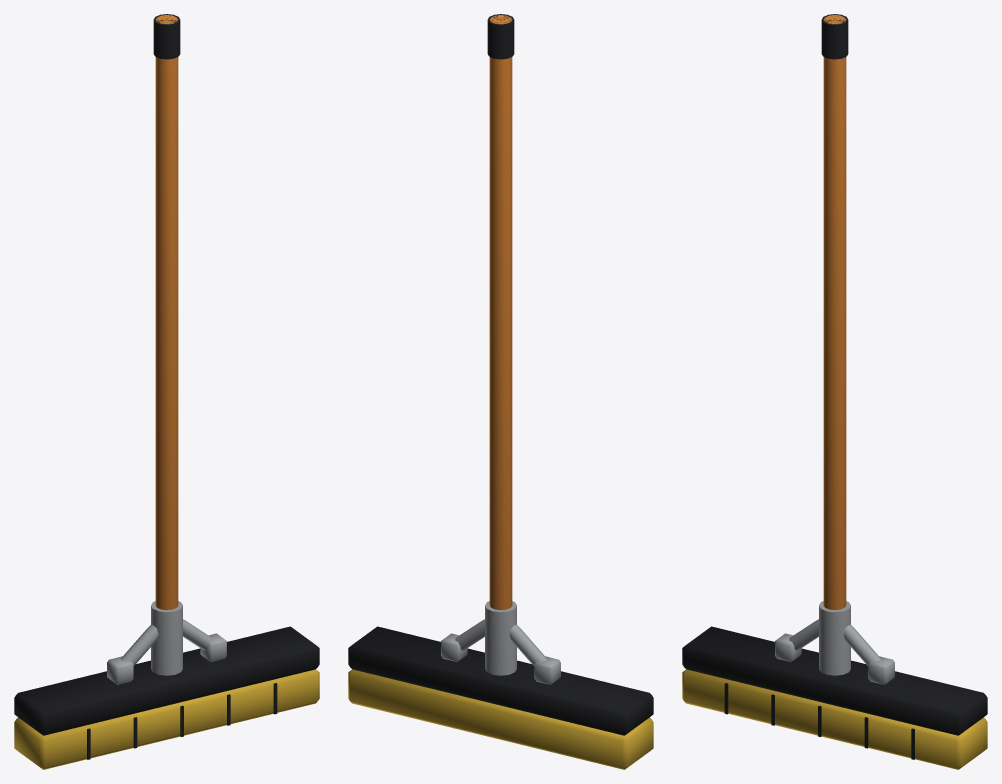
The model's file is SM_Broom_Push_01.glb.
3 views of the same model, side by side, from view 1: azimuth 30°, elevation 25°; view 2: azimuth 150°, elevation 25°; view 3: azimuth 330°, elevation 25° (orthographic).
Visible parts, largest first — view 1: SM_Broom_Push_01; view 2: SM_Broom_Push_01; view 3: SM_Broom_Push_01.
Boxes of the visible parts, x1,y1,x2,y2 form: SM_Broom_Push_01: (14,14,319,769); SM_Broom_Push_01: (348,14,653,769); SM_Broom_Push_01: (682,14,987,769).
Bounding box in the file's own units: 0.6 × 1.45 × 0.1125.
1 material, 1 textured.
